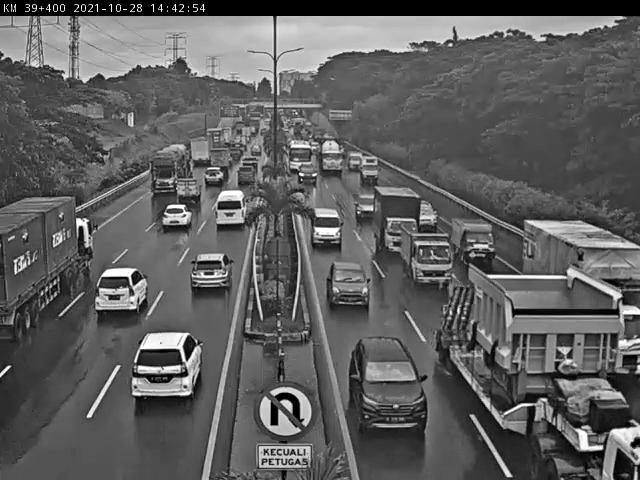big truck: (0, 195, 100, 344)
car: (346, 335, 431, 443), (131, 332, 205, 401), (94, 267, 150, 315), (327, 258, 372, 311), (189, 252, 236, 293), (311, 205, 345, 251), (214, 190, 251, 228), (355, 191, 389, 221), (162, 203, 195, 231)
small truck: (399, 222, 458, 288), (374, 185, 424, 256), (450, 216, 498, 261)
